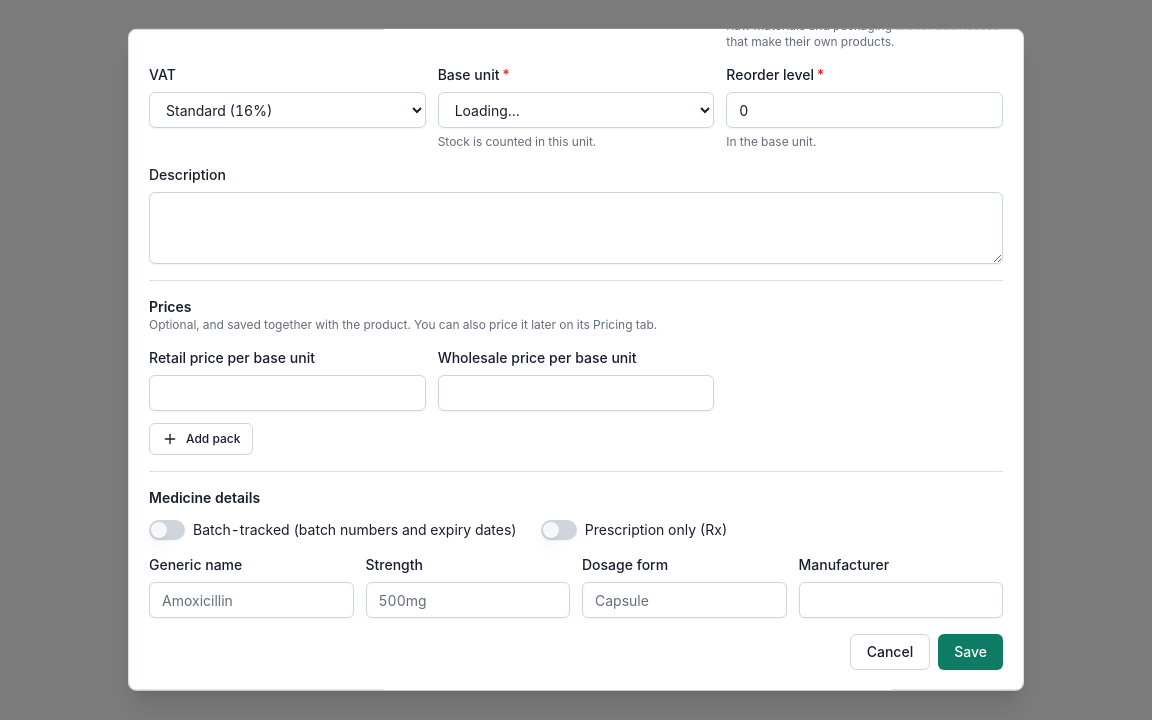
Test: new product prices and packs › shows prices and packs to a user who may set both
(page scrolled)
expect the number field labelled "Retail price per base unit" is shown: met, box [149,375,426,411]
Click the button "Add pack". click: (201, 439)
box: [149,423,254,455]
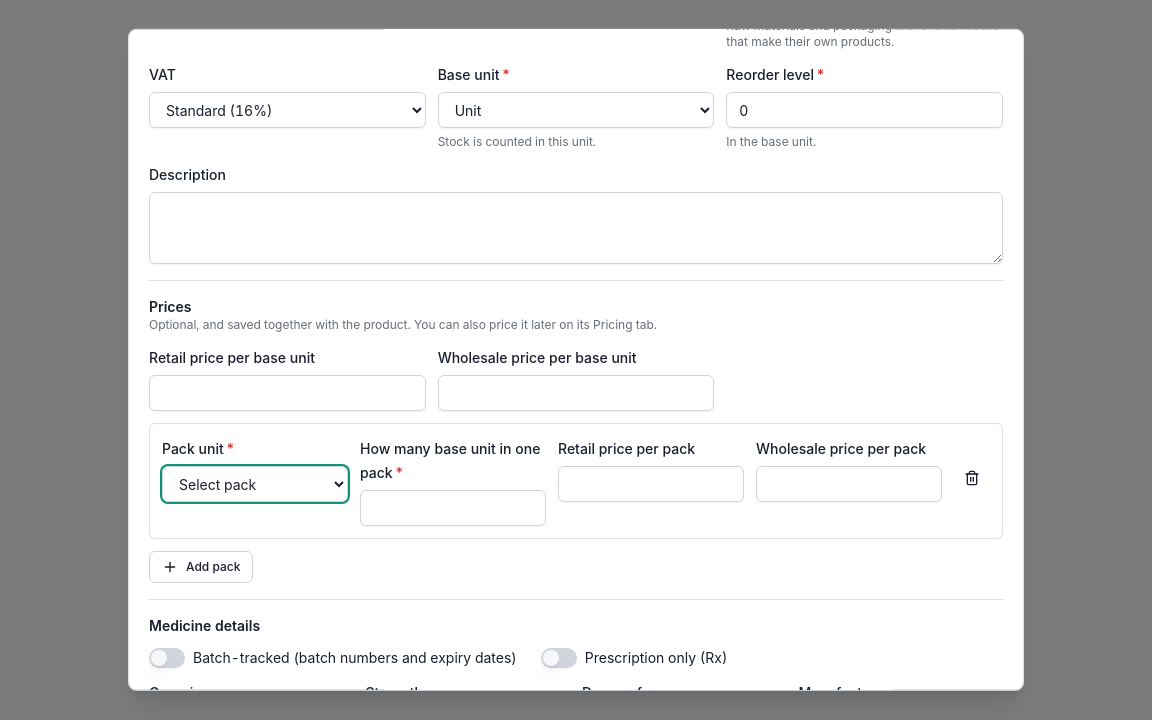
expect the number field labelled "How many base unit in one pack*" is shown: met, box [360,490,546,526]
expect the number field labelled "Retail price per pack" is shown: met, box [558,466,744,502]
